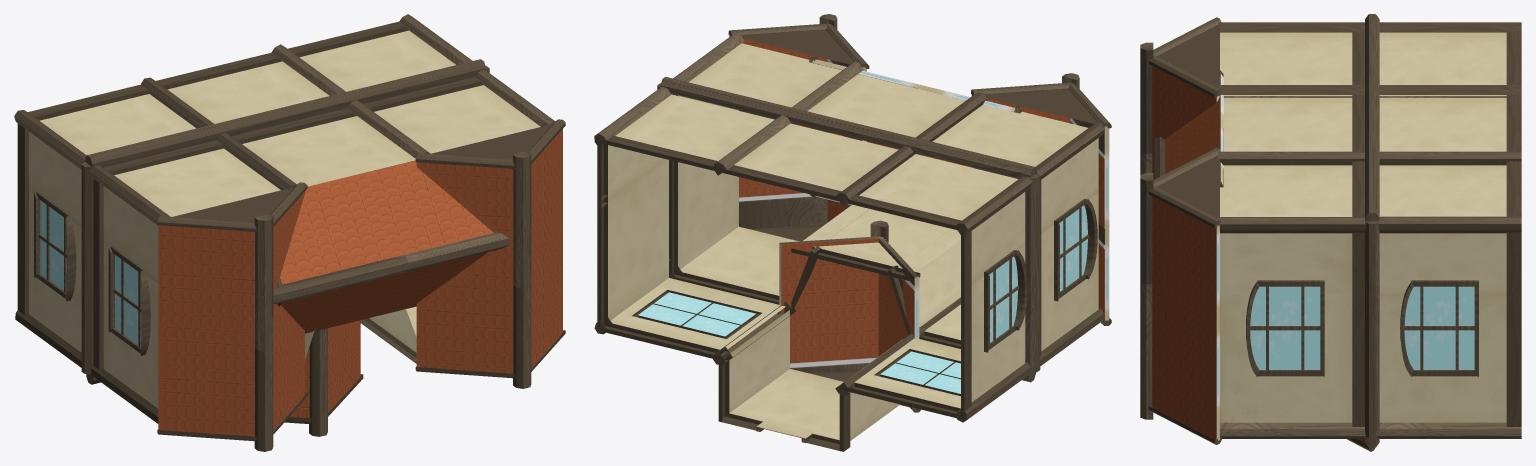
The model's file is HouseTwoPlants.fbx.
The picture shows the model from 3 angles, left to right: view 1: azimuth 30°, elevation 25°; view 2: azimuth 150°, elevation 25°; view 3: azimuth 270°, elevation 25°; orthographic projection. The views are drawn at different scales.
Visible parts, largest first — view 1: HouseTwoPlants; view 2: HouseTwoPlants; view 3: HouseTwoPlants.
Part boxes in pixels (x1,y1,x2,y2): HouseTwoPlants: [14, 14, 565, 451]; HouseTwoPlants: [594, 14, 1111, 451]; HouseTwoPlants: [1140, 14, 1521, 451].
Size of the model in its own units: 9.82 by 6.93 by 7.66.
1 material, 1 textured.
